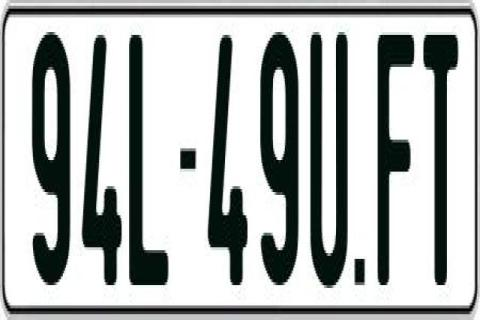0: (260, 26, 306, 291), (81, 27, 127, 286), (204, 32, 248, 282), (29, 24, 70, 288)
F: (376, 32, 414, 285)
L: (126, 35, 167, 291)
T: (424, 32, 458, 291)
U: (308, 29, 350, 294)
